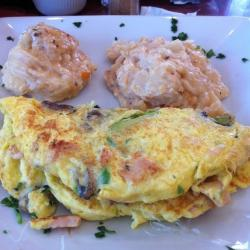omelette: (4, 96, 250, 222)
